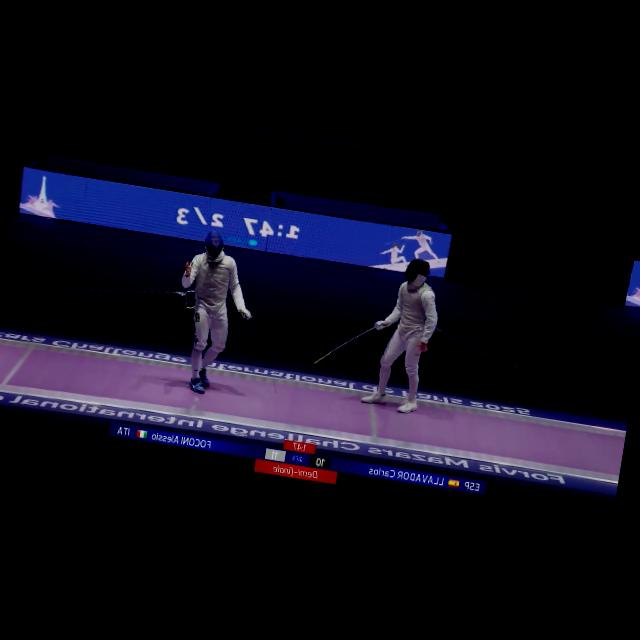blade: (309, 309, 389, 376), (230, 310, 292, 396)
